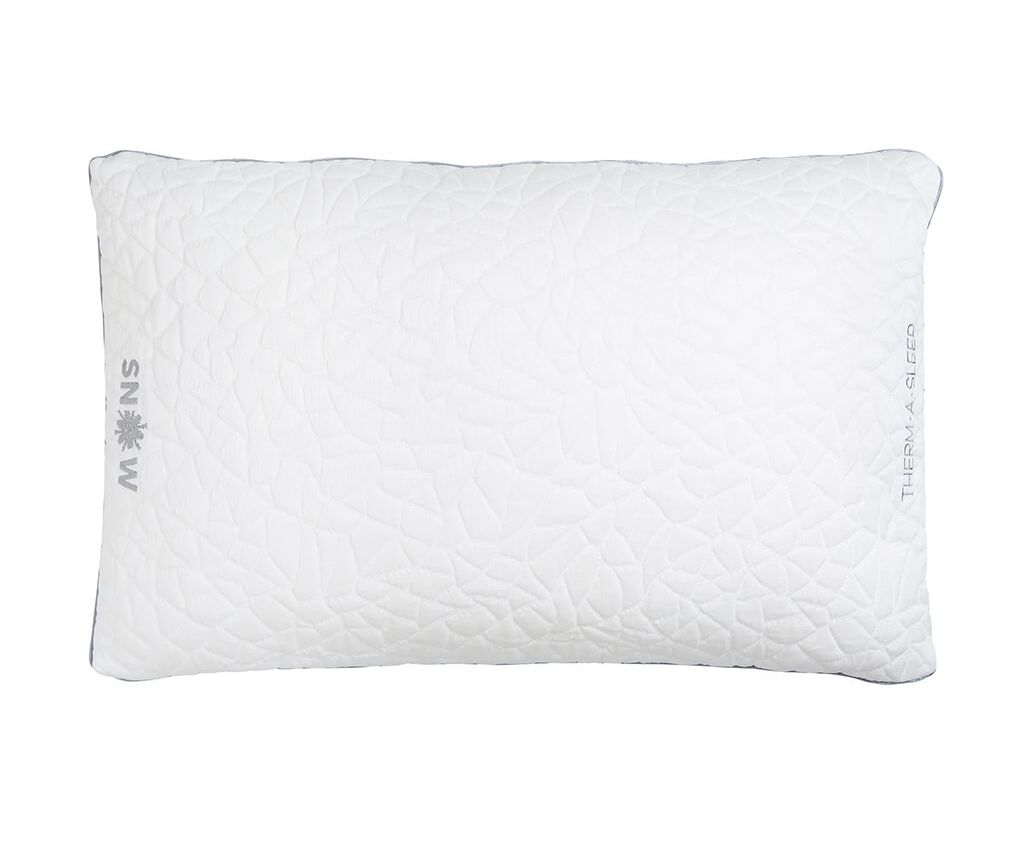bantal: (21, 134, 963, 710)
